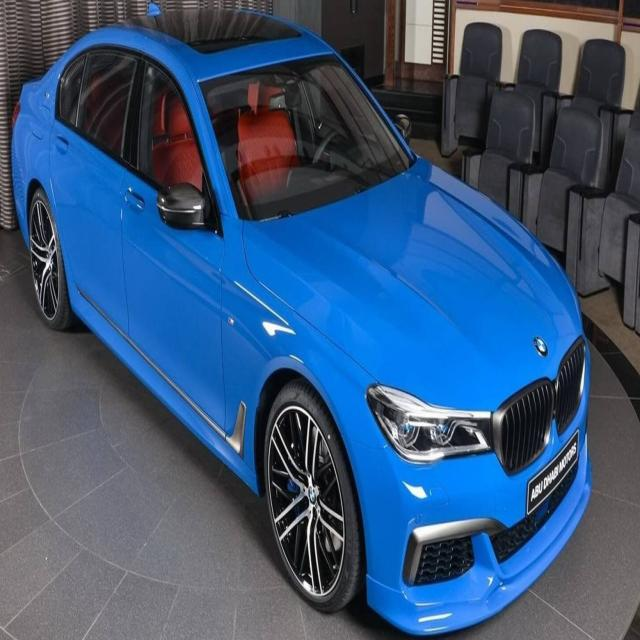blue: (19, 3, 610, 640)
